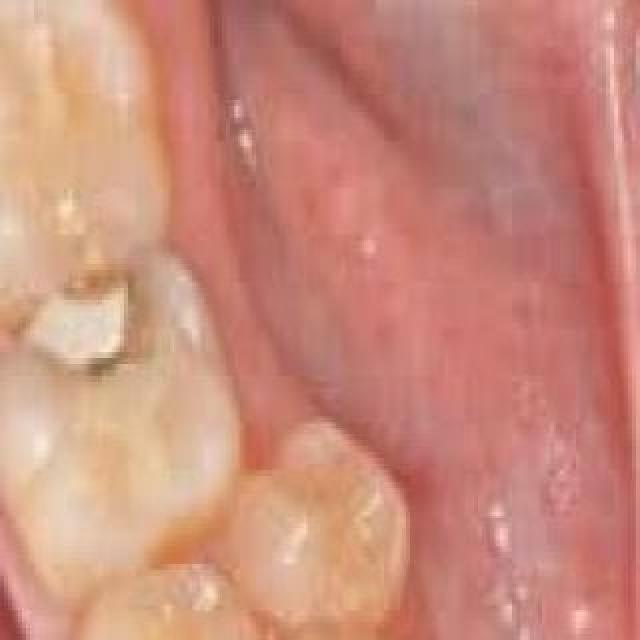cavities: (28, 250, 208, 466)
maligned: (205, 406, 419, 630), (204, 568, 444, 640)
